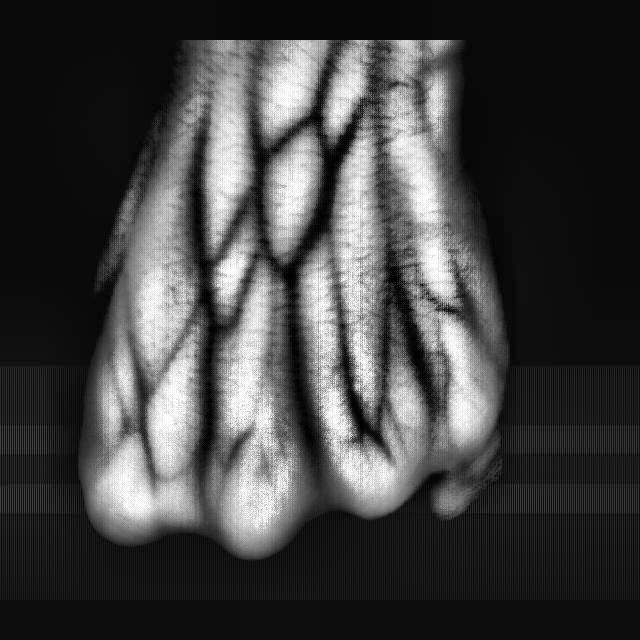Vein: (286, 107, 368, 273), (181, 115, 219, 295), (371, 100, 402, 273)
